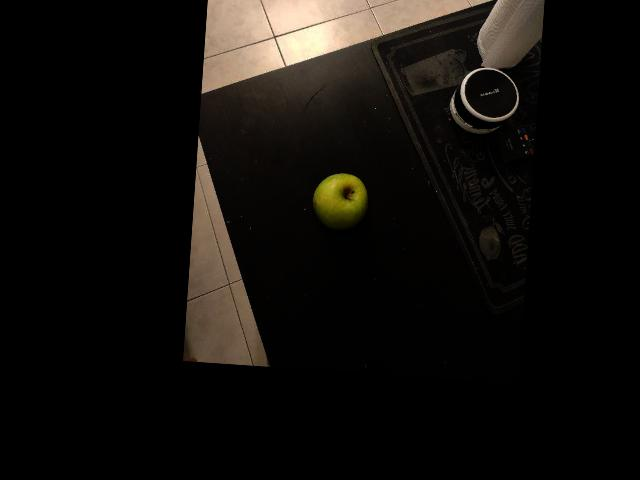apple: (212, 24, 302, 100)
